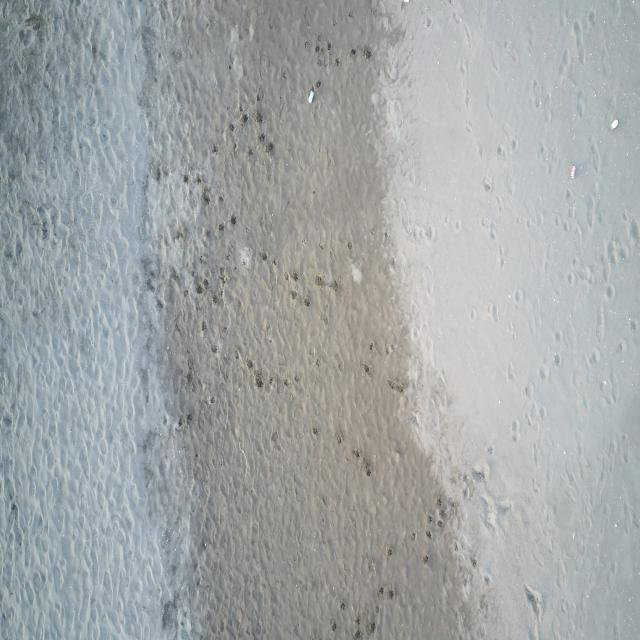tin-and-aluminum-cans: (306, 88, 316, 107), (610, 118, 619, 130), (570, 166, 577, 180)
